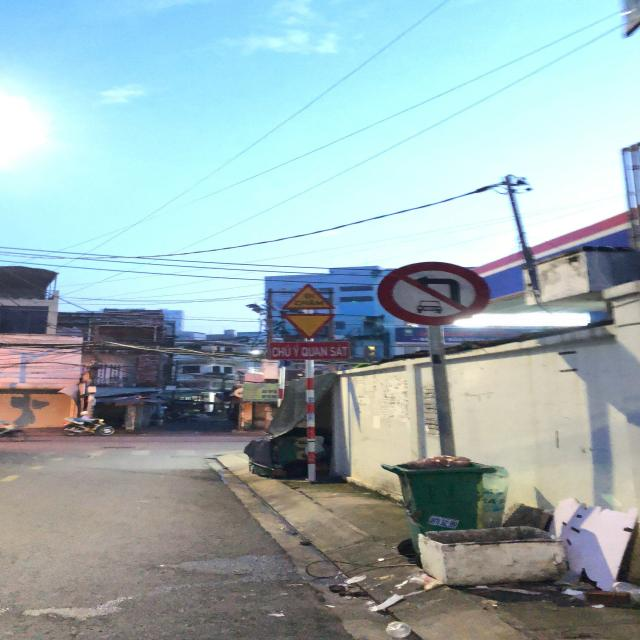Bien bao cam xe o to re trai: (373, 259, 496, 328)
Bien bao di cham: (279, 280, 340, 312)
Bien bao giao nhau voi duong uu tien: (280, 308, 340, 338)
